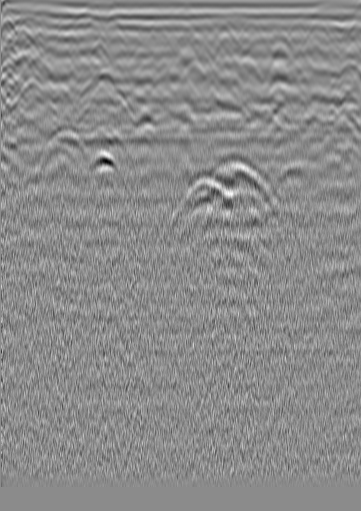가스: (88, 151, 122, 183)
상수: (305, 22, 325, 42)
오수: (16, 29, 36, 49)
우수: (187, 35, 207, 55)
